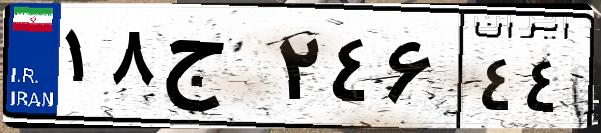1: (57, 26, 110, 100)
2: (270, 28, 330, 110)
4: (330, 28, 385, 110), (475, 38, 525, 113), (525, 38, 570, 115)
6: (385, 28, 445, 110)
8: (110, 28, 158, 98)
ج: (158, 20, 270, 120)
